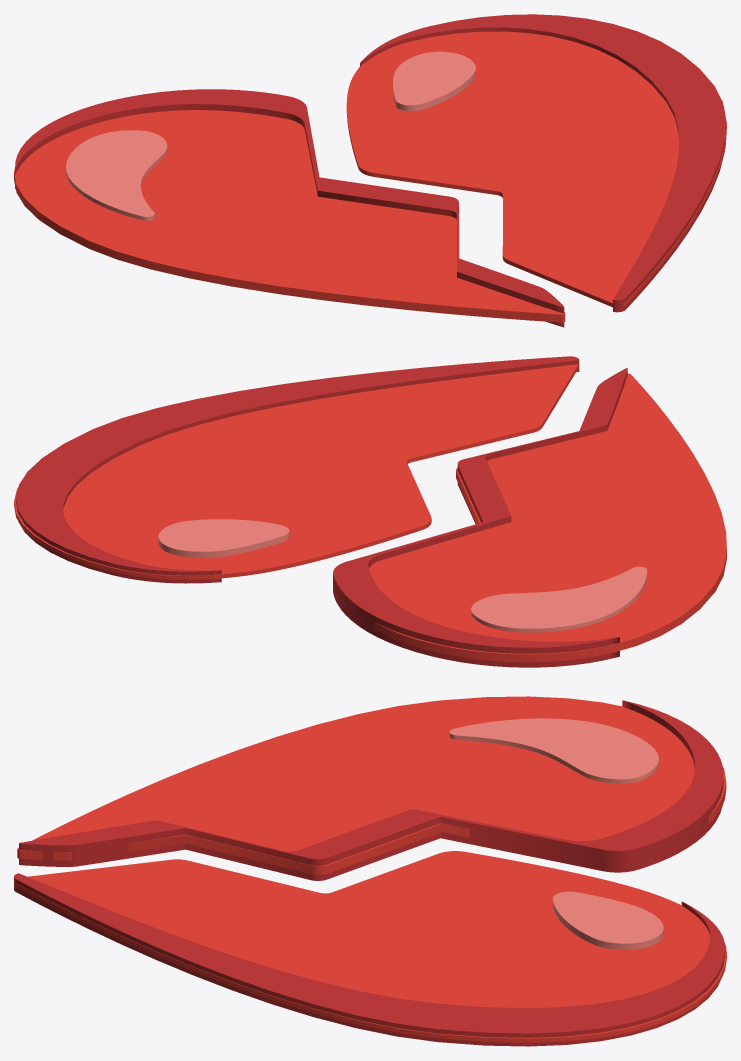
Rendered from emoji_u1f494.glb.
3 views of the same model, one above another, from view 1: azimuth 30°, elevation 25°; view 2: azimuth 150°, elevation 25°; view 3: azimuth 270°, elevation 25° (orthographic). The views are drawn at different scales.
Visible parts, largest first — view 1: emoji_u1f494; view 2: emoji_u1f494; view 3: emoji_u1f494.
Boxes of the visible parts, x1,y1,x2,y2 form: emoji_u1f494: (14,14,726,327); emoji_u1f494: (14,356,726,667); emoji_u1f494: (14,696,726,1046).
Bounding box in the file's own units: 0.0339 × 0.001 × 0.03.
